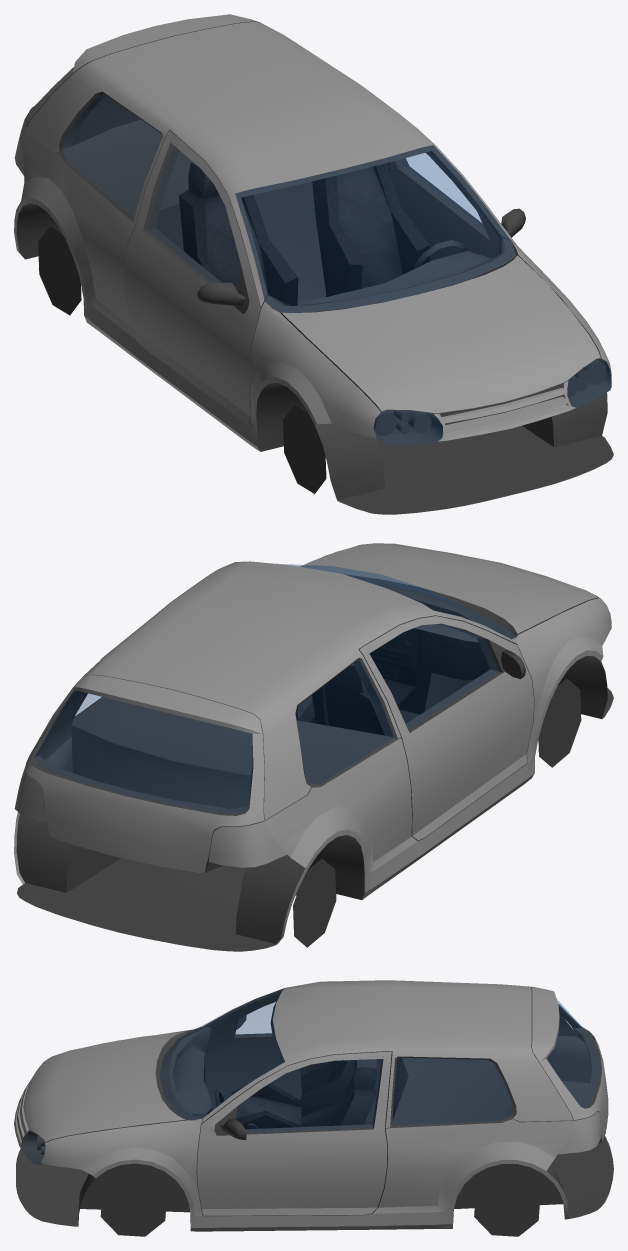
Rendered from Classic_16.FBX.
3 renders of one model, top to bottom at view 1: azimuth 30°, elevation 25°; view 2: azimuth 150°, elevation 25°; view 3: azimuth 270°, elevation 25°, orthographic. The views are drawn at different scales.
Visible parts, largest first — view 1: Classic_16_Body, Classic_16_Roof, Classic_16_Window_F, Classic_16_Hood, Classic_16_Dashboard, Classic_16_Door_R, Classic_16_Window_RF, Classic_16_Window_RB, Classic_16_Door_L, Classic_16_Trunk, Classic_16_LightGlass_R, Classic_16_Window_LF (+1 smaller); view 2: Classic_16_Body, Classic_16_Roof, Classic_16_Trunk, Classic_16_Door_R, Classic_16_Window_B, Classic_16_Hood, Classic_16_Dashboard, Classic_16_Window_RF, Classic_16_Window_RB, Classic_16_Taillights, Classic_16_Window_F; view 3: Classic_16_Body, Classic_16_Roof, Classic_16_Door_L, Classic_16_Hood, Classic_16_Window_F, Classic_16_Dashboard, Classic_16_Window_LF, Classic_16_Window_LB, Classic_16_Door_R, Classic_16_Trunk, Classic_16_Window_B, Classic_16_Taillights (+2 smaller).
Boxes of the visible parts, x1,y1,x2,y2 form: Classic_16_Body: [14, 119, 613, 514]; Classic_16_Roof: [26, 21, 516, 306]; Classic_16_Window_F: [236, 146, 515, 312]; Classic_16_Hood: [281, 255, 600, 412]; Classic_16_Dashboard: [179, 162, 491, 305]; Classic_16_Door_R: [124, 130, 262, 424]; Classic_16_Window_RF: [148, 146, 241, 288]; Classic_16_Window_RB: [63, 95, 161, 216]; Classic_16_Door_L: [390, 152, 525, 261]; Classic_16_Trunk: [25, 14, 259, 145]; Classic_16_LightGlass_R: [374, 411, 442, 444]; Classic_16_Window_LF: [403, 153, 482, 226]; Classic_16_Body: [14, 543, 613, 951]; Classic_16_Roof: [39, 561, 516, 820]; Classic_16_Trunk: [25, 674, 264, 873]; Classic_16_Door_R: [358, 615, 534, 839]; Classic_16_Window_B: [34, 691, 252, 812]; Classic_16_Hood: [301, 543, 600, 637]; Classic_16_Dashboard: [296, 624, 490, 735]; Classic_16_Window_RF: [370, 624, 497, 729]; Classic_16_Window_RB: [296, 661, 393, 783]; Classic_16_Taillights: [14, 768, 286, 867]; Classic_16_Window_F: [281, 564, 514, 638]; Classic_16_Body: [14, 1026, 613, 1236]; Classic_16_Roof: [202, 980, 576, 1127]; Classic_16_Door_L: [197, 1051, 391, 1215]; Classic_16_Hood: [24, 1032, 187, 1142]; Classic_16_Window_F: [160, 989, 284, 1119]; Classic_16_Dashboard: [173, 1045, 376, 1129]; Classic_16_Window_LF: [236, 1059, 382, 1132]; Classic_16_Window_LB: [393, 1058, 511, 1124]; Classic_16_Door_R: [204, 996, 381, 1114]; Classic_16_Trunk: [532, 987, 608, 1141]; Classic_16_Window_B: [547, 999, 598, 1106]; Classic_16_Taillights: [558, 1111, 601, 1154].
Bounding box in the file's own units: 220 × 154 × 461.
